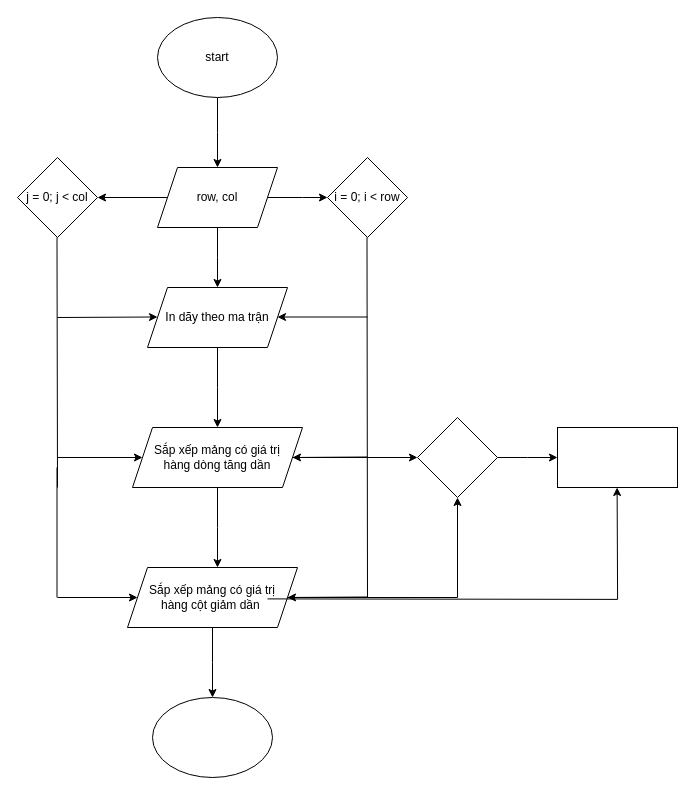
Some shapes in this 695 by 795 pixel diagram are drawn without their labels. Here are the shapes that lost their labels. From the top down, the box of each, then its label:
(416, 416, 498, 498): key = arr f = j - 1
(556, 426, 678, 488): f >= 0, key < arr
(152, 696, 272, 778): End
